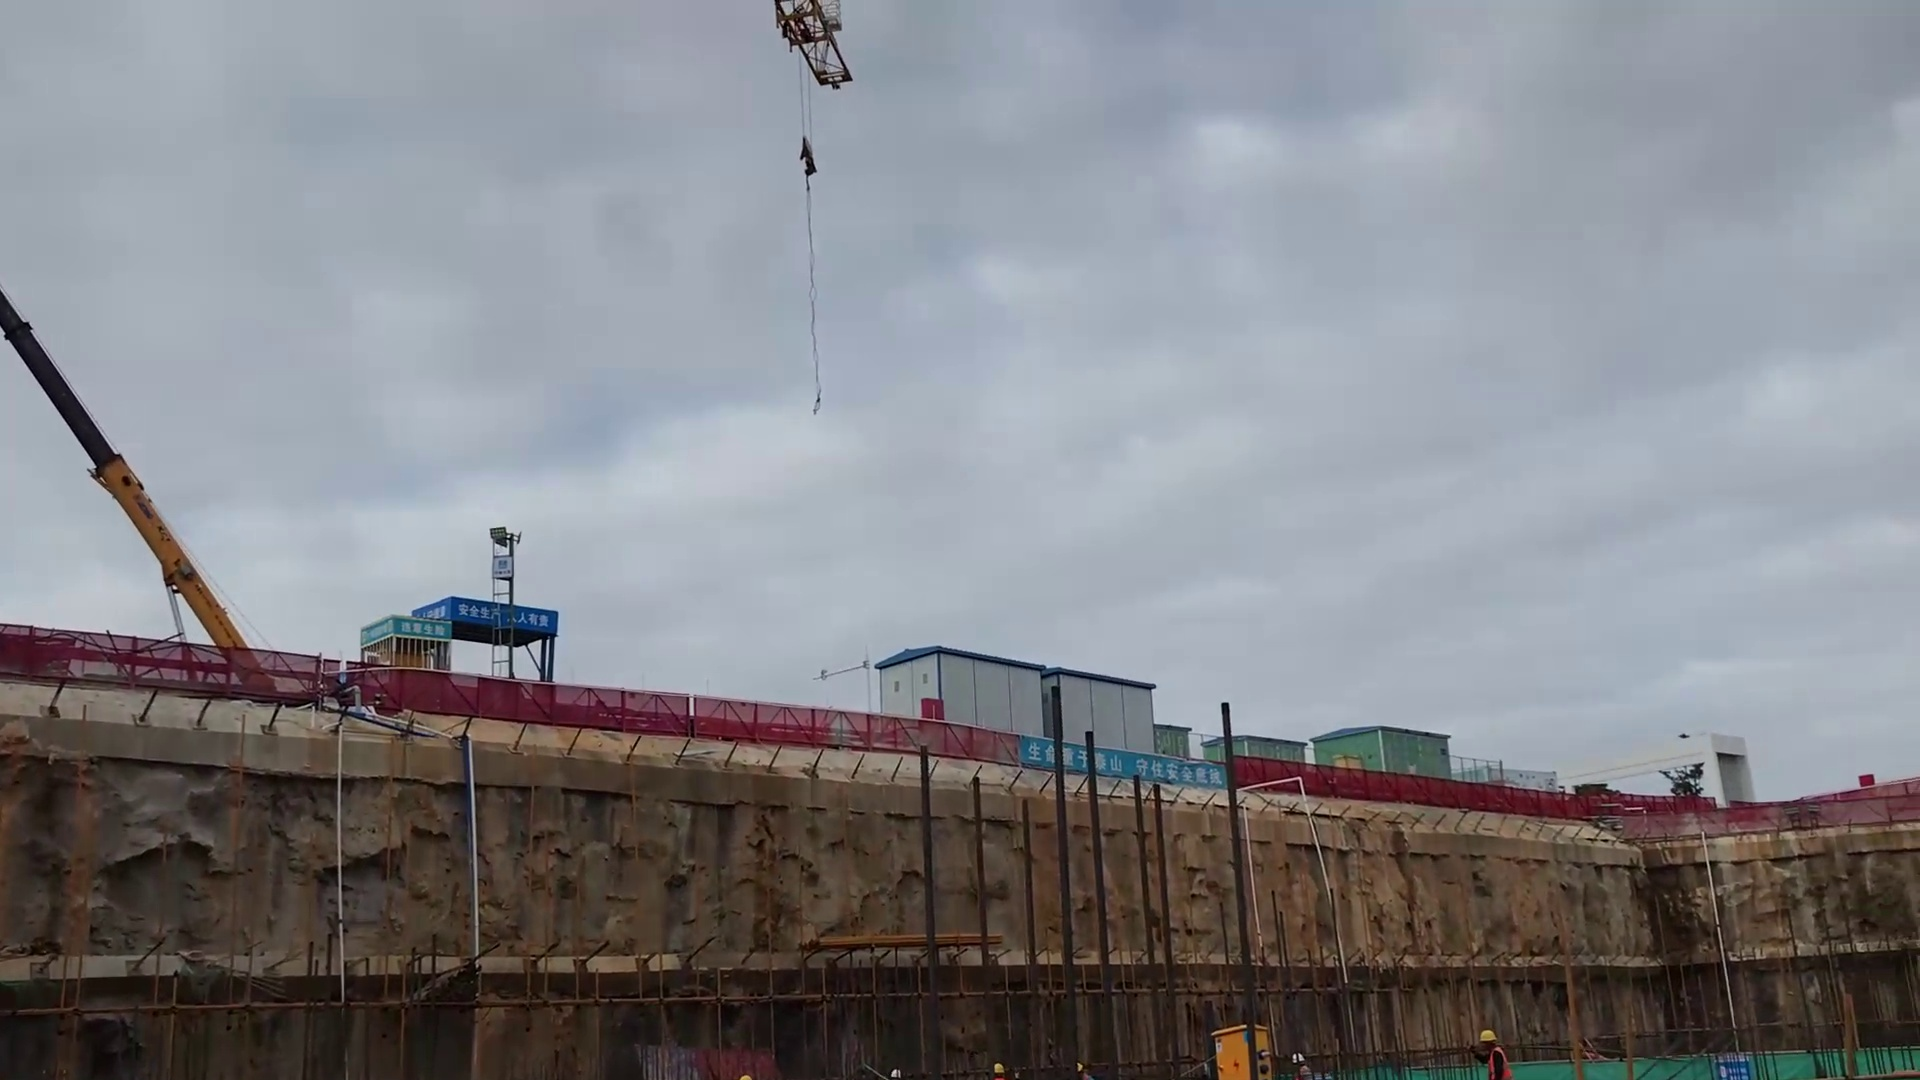ebox: (1205, 1009, 1279, 1080)
fence: (3, 617, 1017, 771), (1236, 747, 1920, 835)
helmet: (1479, 1029, 1500, 1051)
person: (1471, 1017, 1513, 1080)
slogan: (1012, 731, 1231, 800)
vest: (1485, 1048, 1506, 1080)
